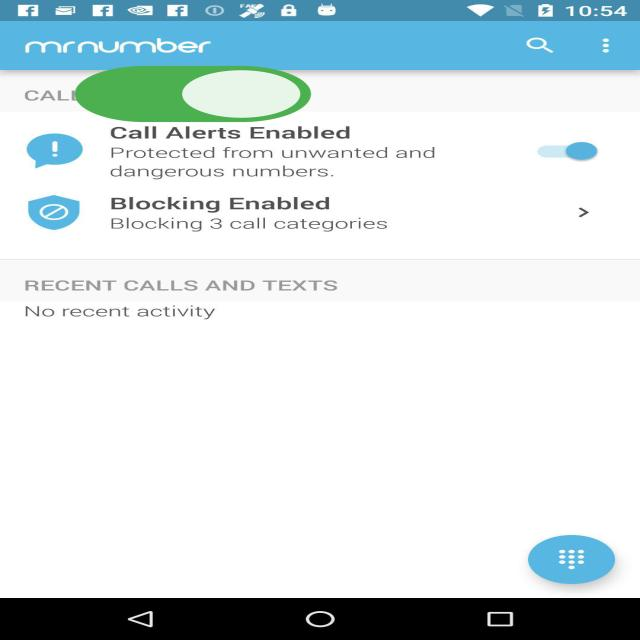social proof: (64, 44, 322, 148)
